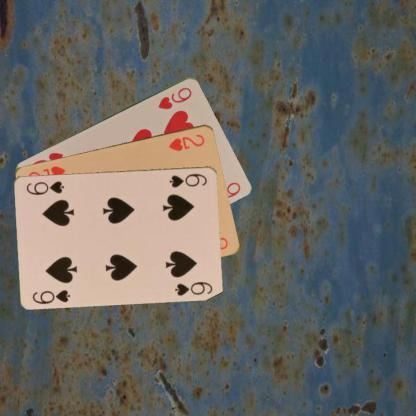2h: (166, 131, 206, 152)
6s: (167, 170, 209, 189), (30, 287, 72, 305)
9h: (155, 84, 193, 110)
